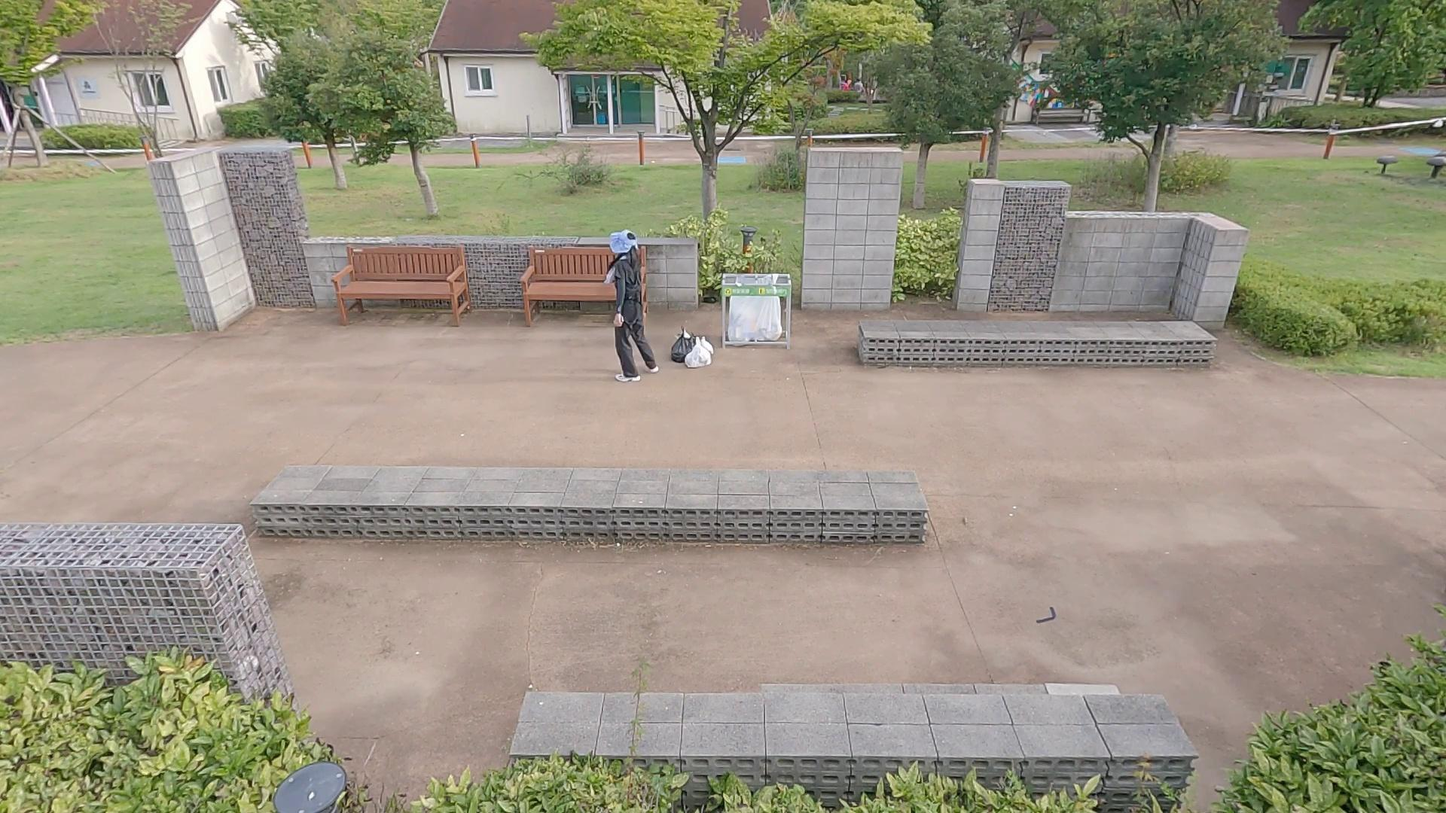person: (601, 229, 659, 383)
trash: (668, 329, 700, 363), (684, 337, 712, 370), (687, 334, 715, 361), (679, 325, 698, 361)
